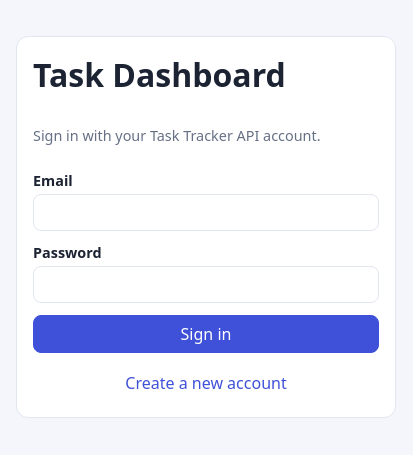
it: AuthPage › shows the server error when login fails
Type "ada@example.com" into the field labelled "Email" at {"x": 206, "y": 213}, box left=33, top=194, right=379, bottom=231
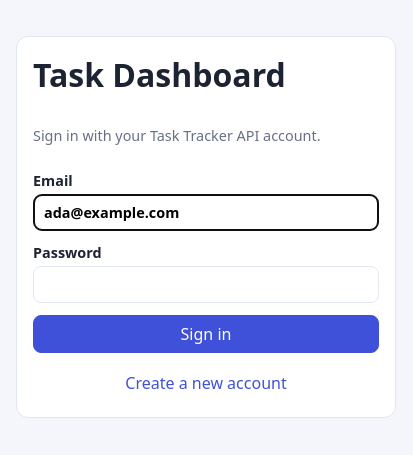
Type "wrong" into the password field labelled "Password" at {"x": 206, "y": 285}, box left=33, top=266, right=379, bottom=303
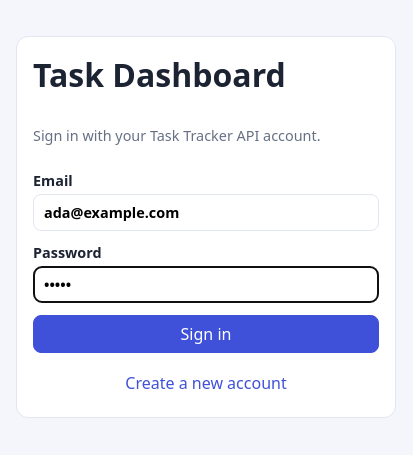
Click the button "Sign in" at {"x": 206, "y": 334}, box left=33, top=315, right=379, bottom=353
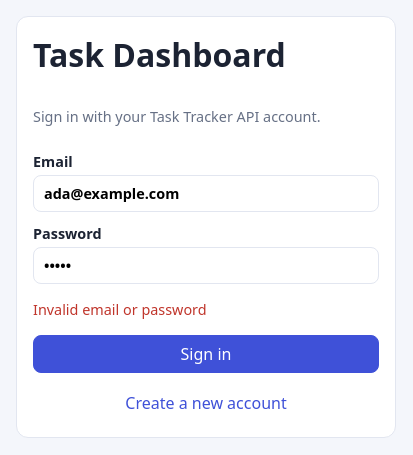
Check: the message reads "Invalid email or password", box left=33, top=300, right=207, bottom=319
